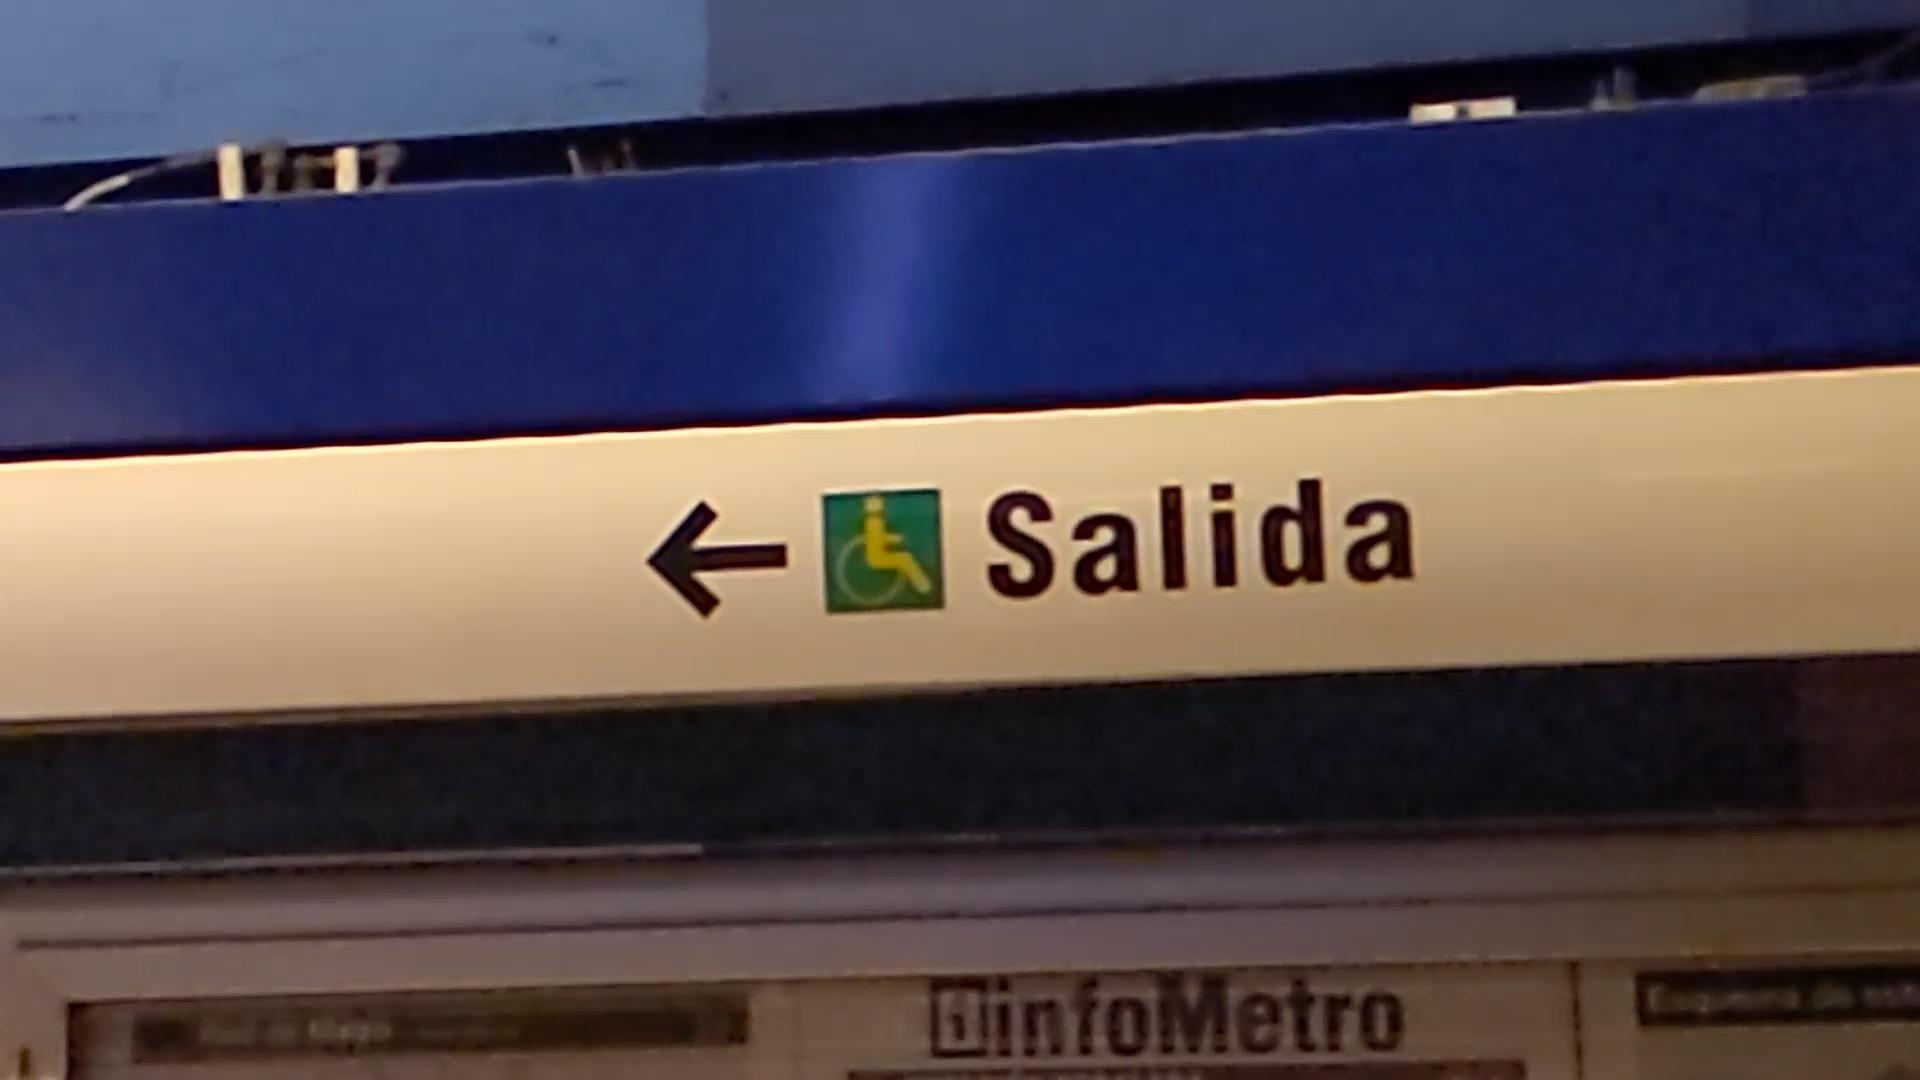handicapped symbol: (824, 493, 934, 611)
left arrow: (642, 497, 793, 624)
